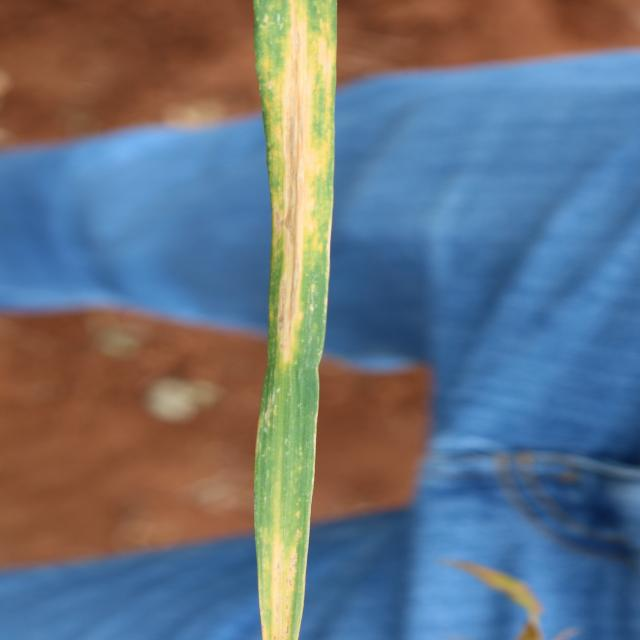Septoria: (269, 39, 327, 256), (275, 262, 293, 350)
